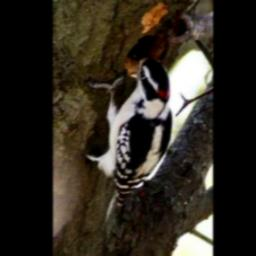Woodpecker: (86, 51, 172, 217)
